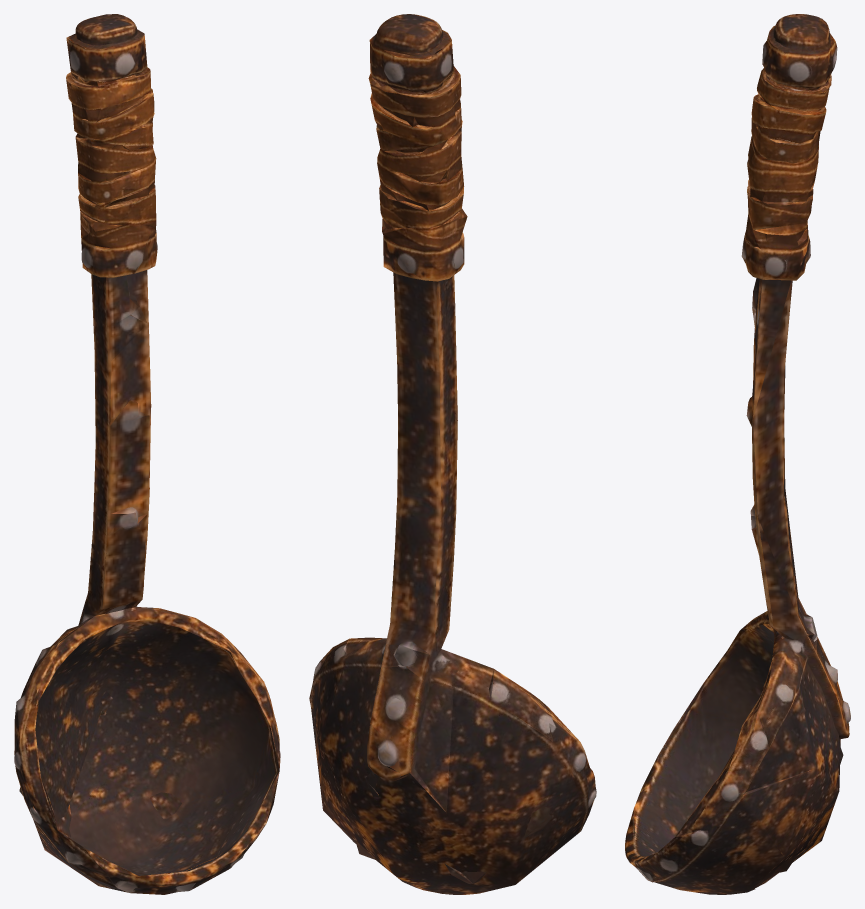
File: ladle.glb
3 views of the same model, side by side, from view 1: azimuth 30°, elevation 25°; view 2: azimuth 150°, elevation 25°; view 3: azimuth 270°, elevation 25° (orthographic). The views are drawn at different scales.
Visible parts, largest first — view 1: Mesh_0; view 2: Mesh_0; view 3: Mesh_0.
Boxes of the visible parts, bbox=[...] form: Mesh_0: bbox=[14, 14, 280, 894]; Mesh_0: bbox=[309, 14, 596, 894]; Mesh_0: bbox=[625, 14, 850, 894].
Bounding box in the file's own units: 0.6043 × 1.9 × 0.4534.
Materials: 1 (1 with a texture image).
